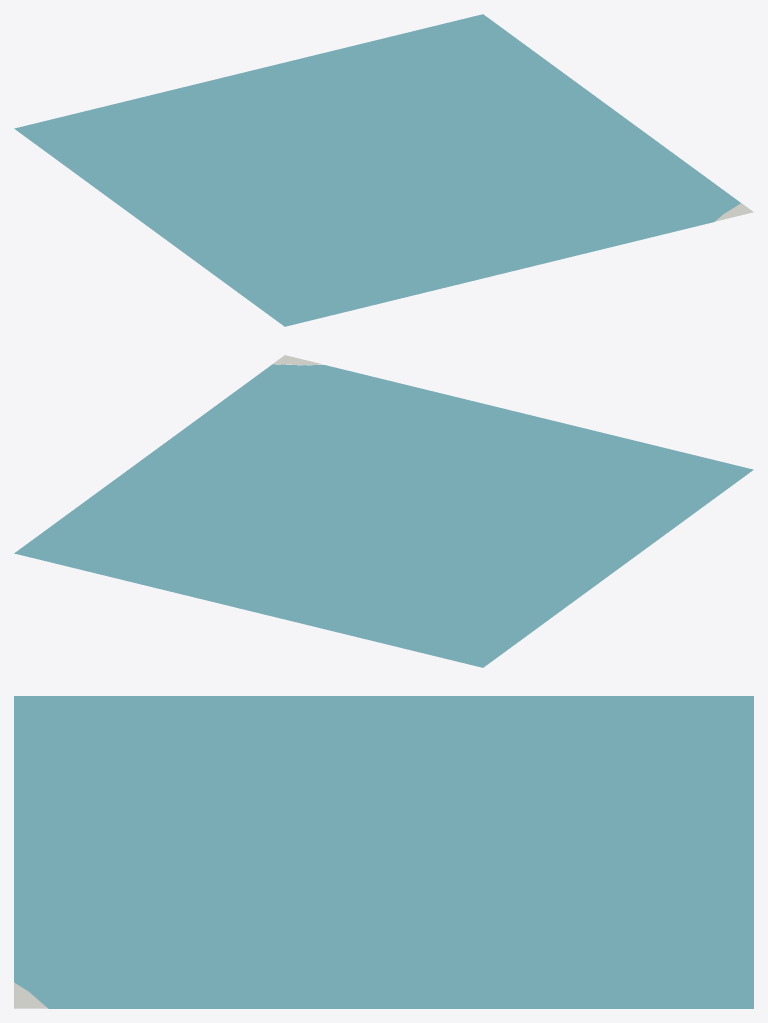
3 renders of one model, top to bottom at view 1: azimuth 30°, elevation 25°; view 2: azimuth 150°, elevation 25°; view 3: azimuth 270°, elevation 25°, orthographic. The views are drawn at different scales.
Parts seen in each view (by area): view 1: city; view 2: city; view 3: city.
Boxes of the visible parts, x1,y1,x2,y2 form: city: (14,14,753,326); city: (14,355,753,667); city: (14,696,753,1008).
Size of the model in its own units: 500 by 0.18 by 500.
